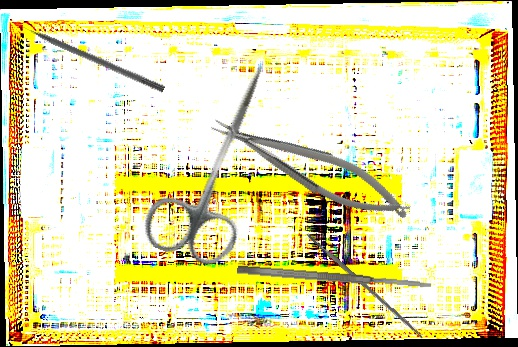Iris Scissors: (136, 46, 302, 276)
Needle Holder: (205, 98, 418, 236)
Pusher: (12, 18, 166, 93)
Scalpel Handle: (304, 230, 425, 340)
Spatula Surgical: (236, 263, 432, 292)
